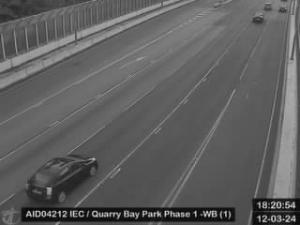vehicle: (25, 156, 99, 204), (252, 12, 264, 22), (264, 2, 272, 10), (278, 6, 288, 12)
